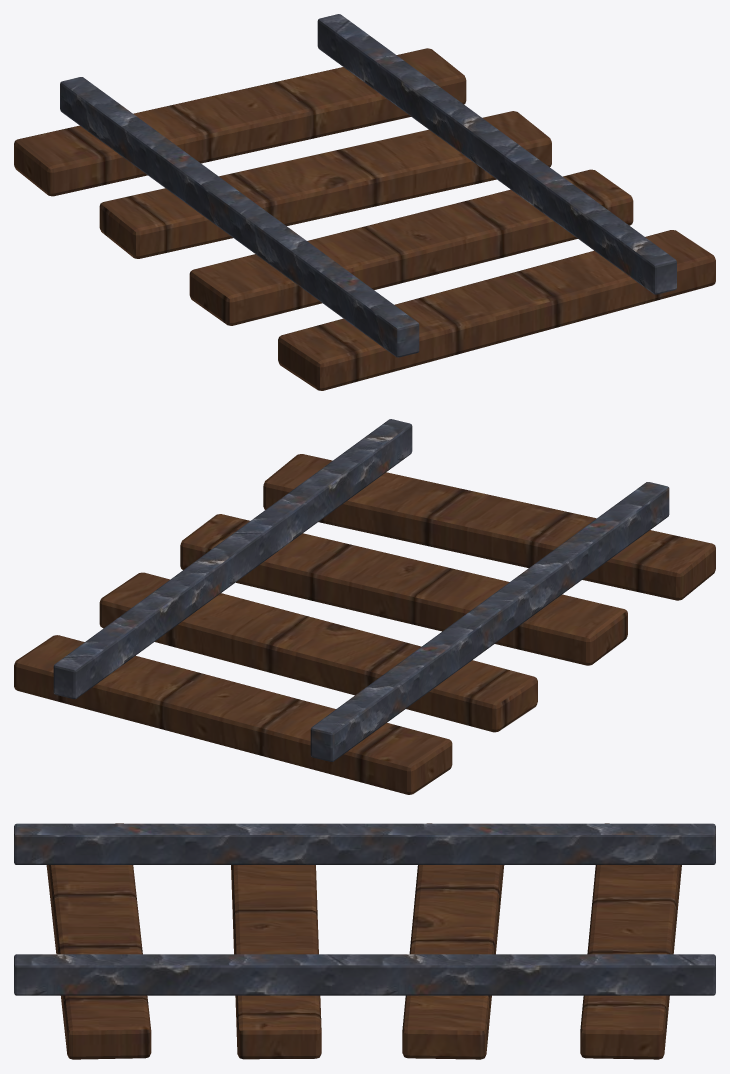
File: rail_track.glb
The picture shows the model from 3 angles, top to bottom: view 1: azimuth 30°, elevation 25°; view 2: azimuth 150°, elevation 25°; view 3: azimuth 270°, elevation 25°; orthographic projection. The views are drawn at different scales.
Parts seen in each view (by area): view 1: model; view 2: model; view 3: model.
Part boxes in pixels (x1,y1,x2,y2): model: (14,14,715,390); model: (14,419,715,794); model: (14,823,715,1059).
Bounding box in the file's own units: 0.704 × 0.1 × 1.
Materials: 2 (2 with a texture image).
